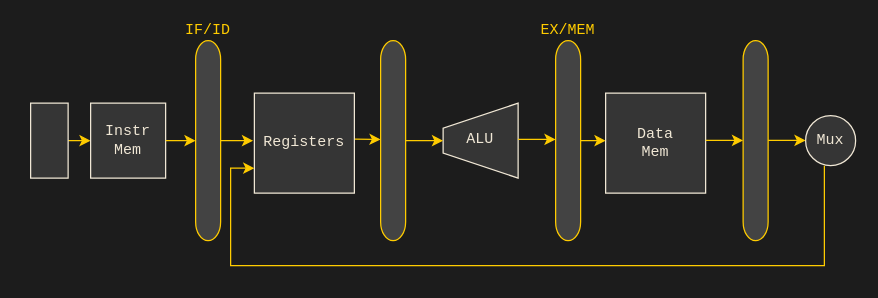
The diagram is 878 pixels wide and 298 high, and some of its shapes have lost their labels. Each missing label, with the box of its shape:
ID/EX: (379, 39, 406, 241)
MEM/WB: (742, 39, 768, 241)
PC: (29, 102, 68, 178)
